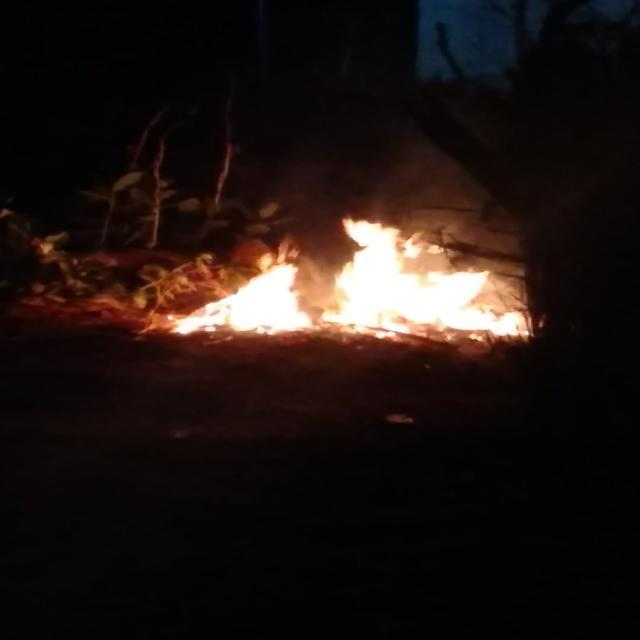Fire: (169, 217, 521, 333)
